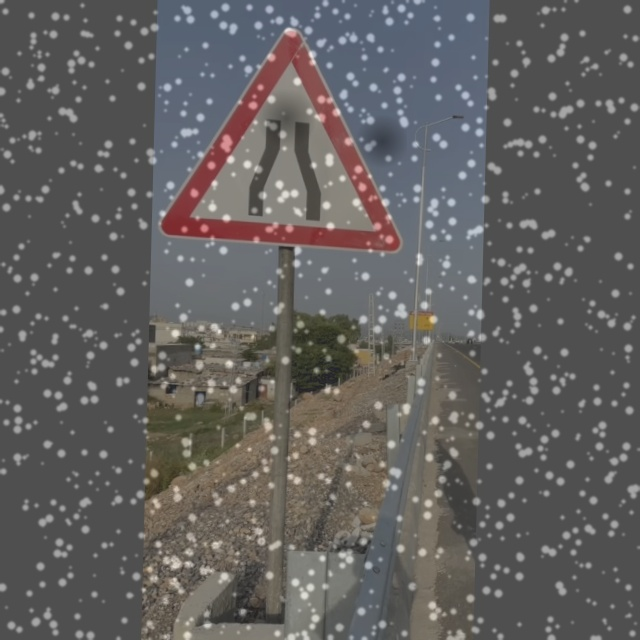Narrow_Road_Ahead: (175, 25, 407, 253)
